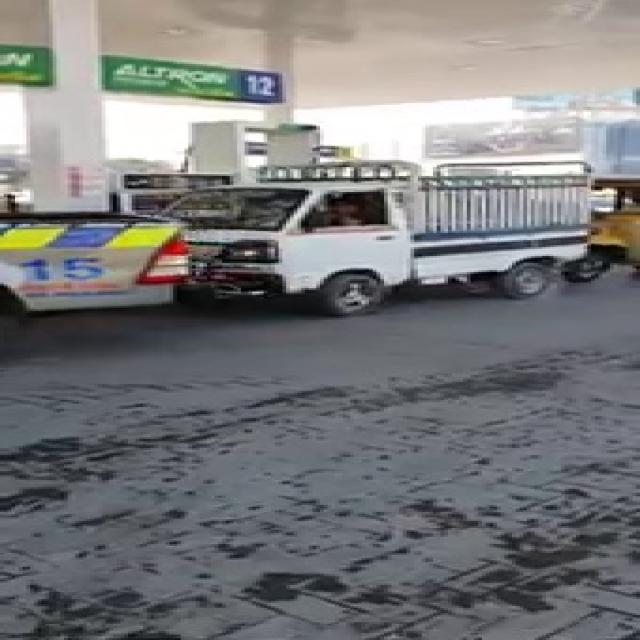police: (0, 180, 238, 382)
